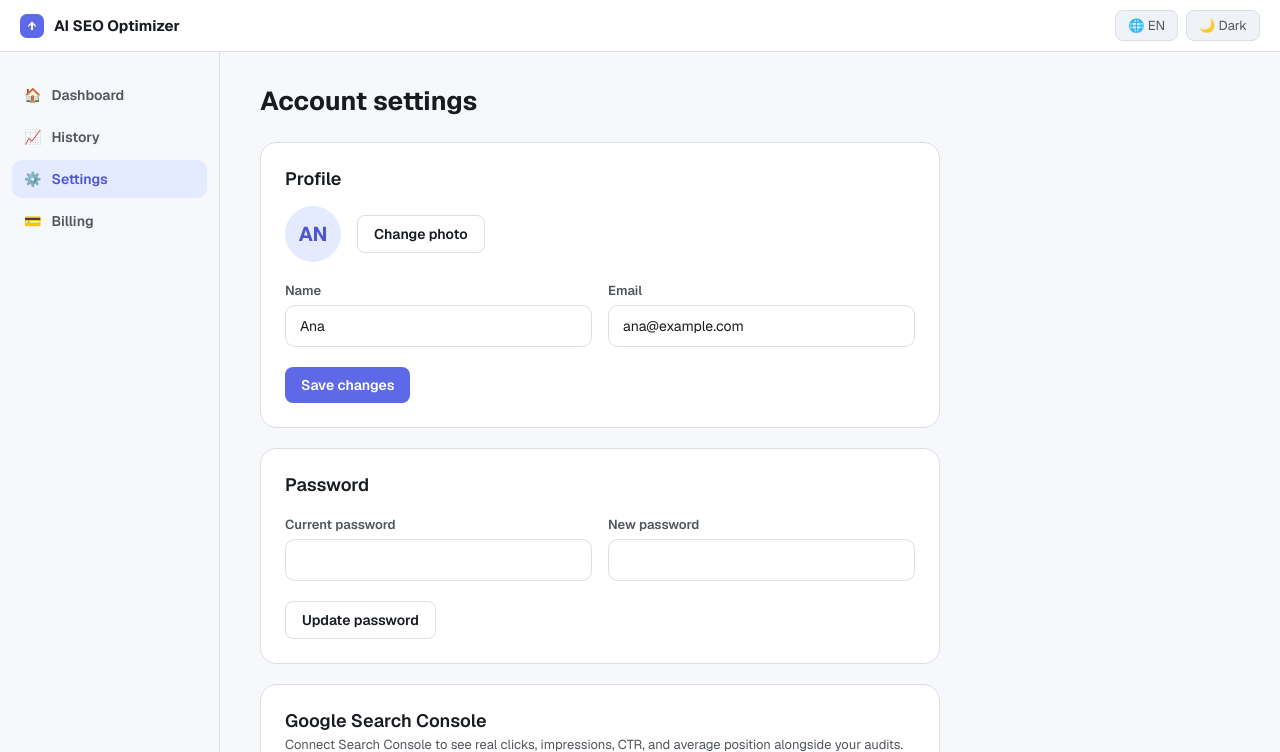
Test: Settings: profile › saves profile changes and shows a success message
Step 1. Replace the text in the field showing "Ana" with "Ana Maria" → (438, 326), box x1=285 y1=305 x2=592 y2=347
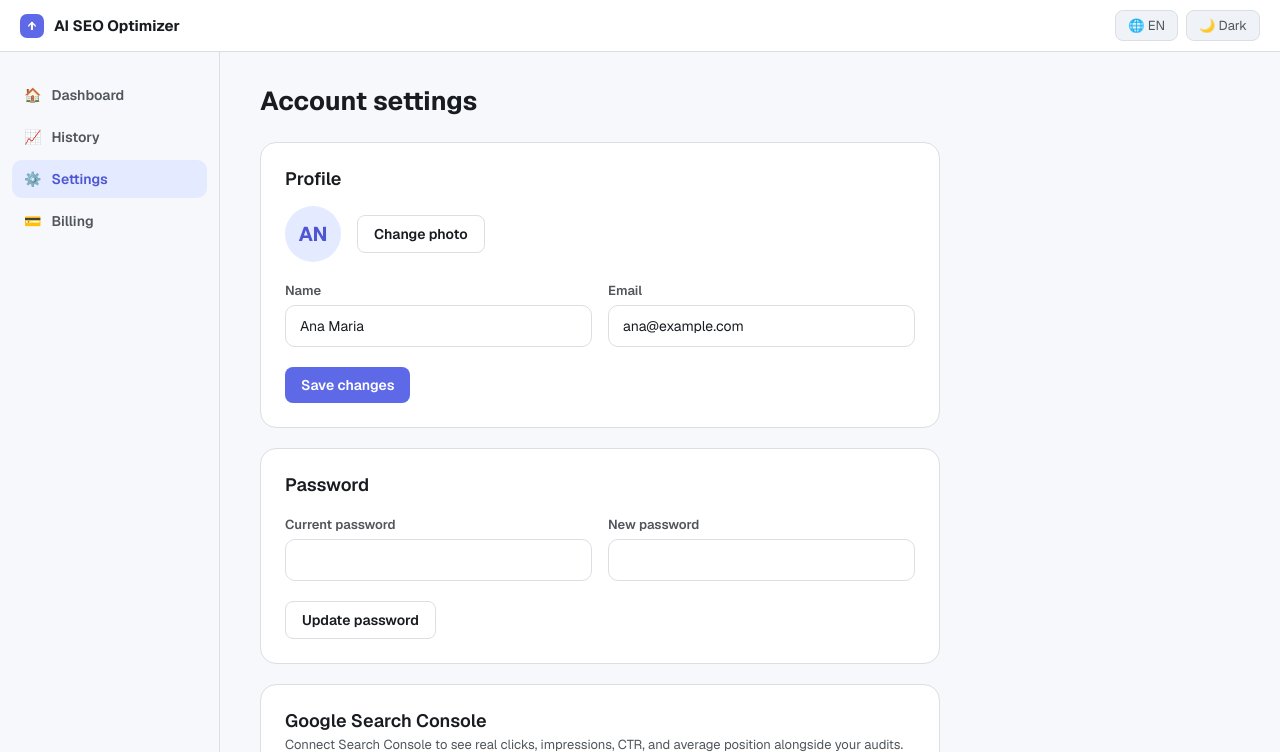
Step 2. Click the button "Save changes" → (348, 385), box x1=285 y1=367 x2=410 y2=403
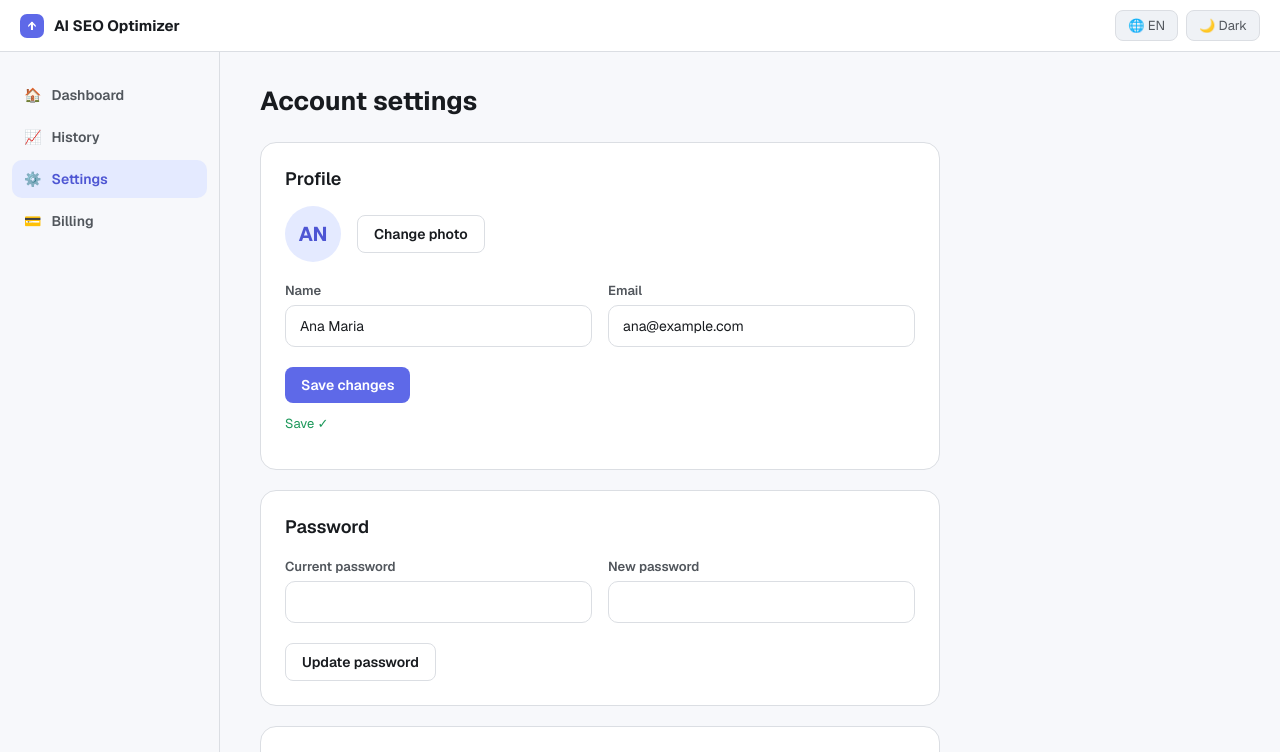
Result: the text "Save ✓" is shown at x1=285 y1=415 x2=328 y2=432
